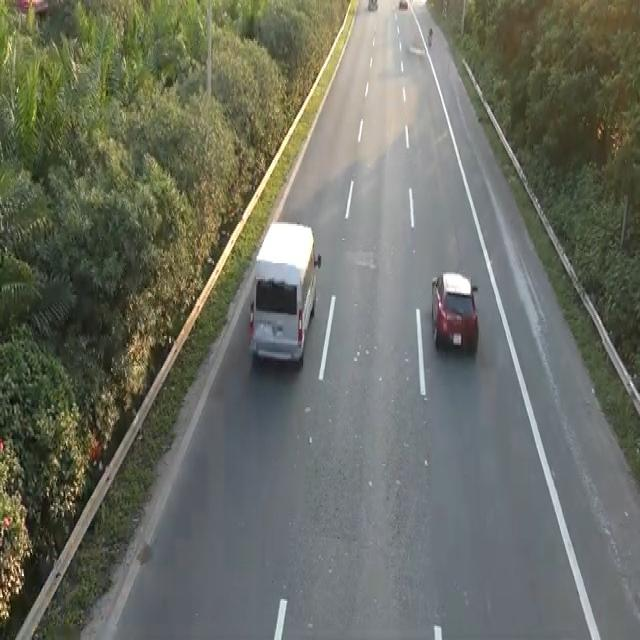bus: (429, 266, 480, 356)
jeep: (246, 217, 322, 370)
minibus: (426, 25, 433, 48)
